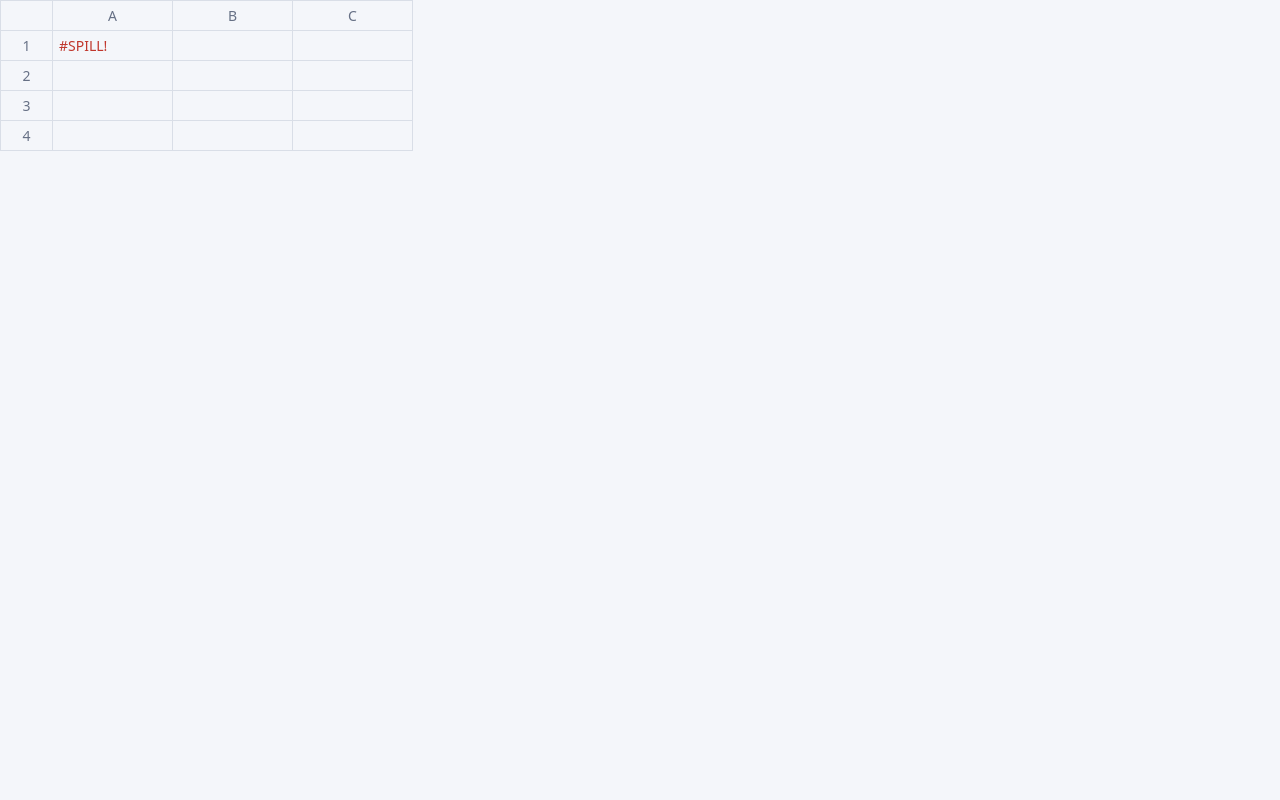
Test: rendering › resizes the table for a dimension spill and recalculates the formula
The width and height of the screenshot is (1280, 800).
Expected: the cell "#SPILL!" is shown, [52, 30, 172, 60]
Hover over the text with class "cell-value--error" at (83, 45), box [59, 36, 107, 54]
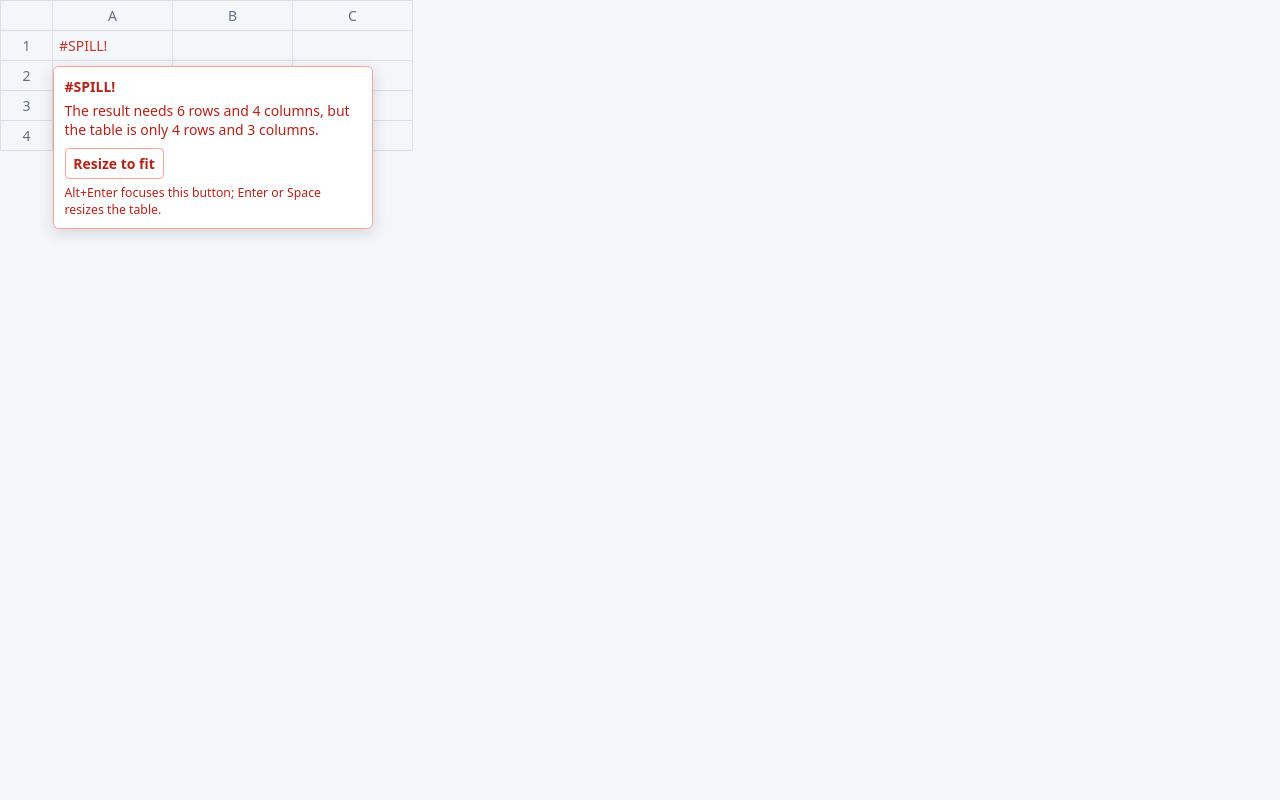
Click the button with class "cell-error-popover__action" at (114, 163), box [64, 148, 164, 179]
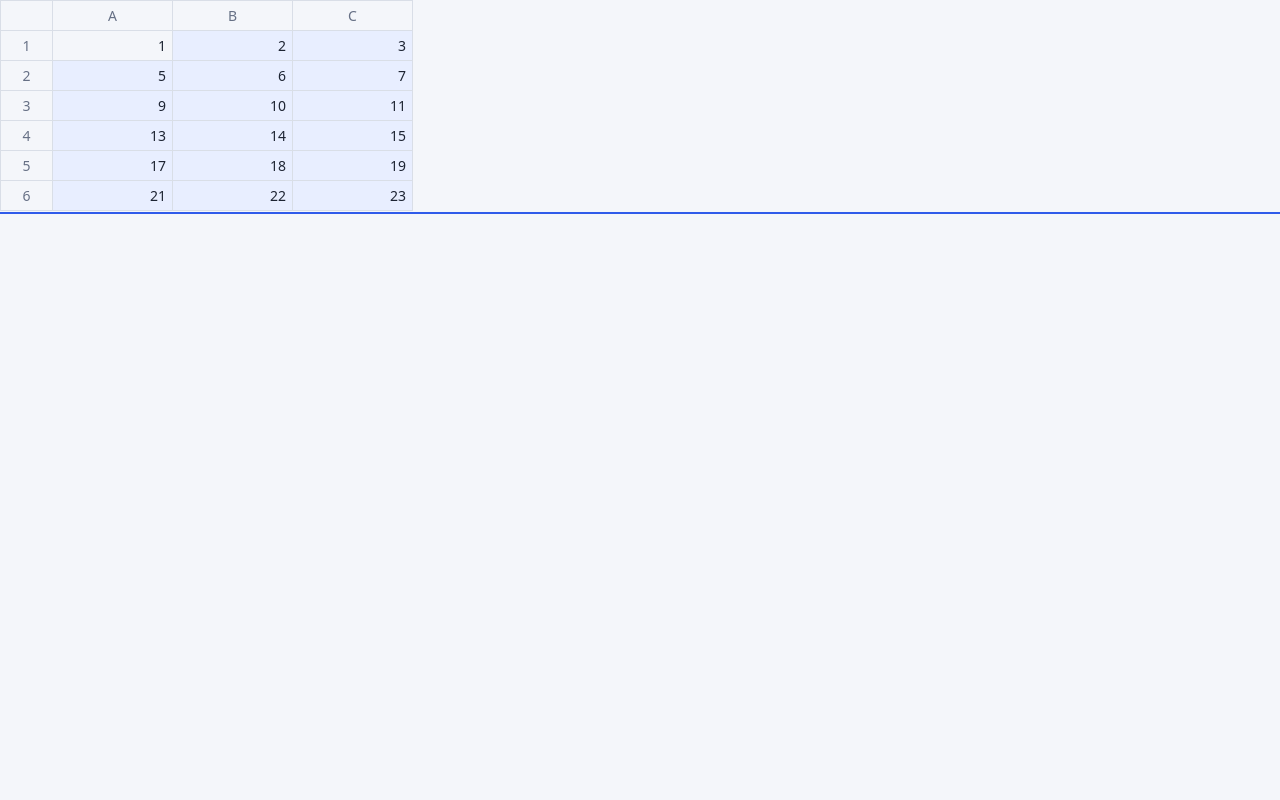
Expected: the button with class "cell-error-popover__action" is gone
